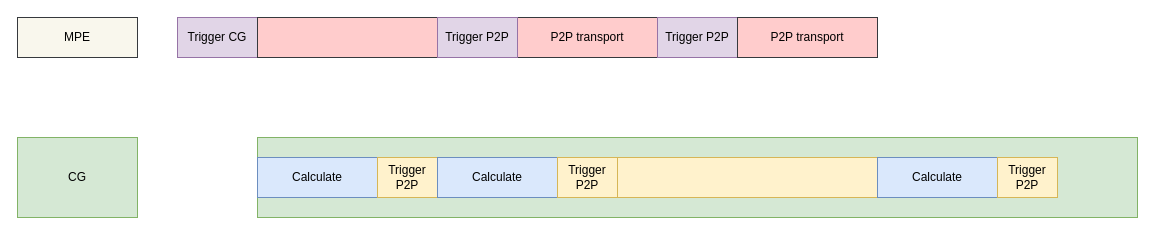
Image size: 1155x235. Some labels were removed from this diagram. Here are the shapes that lost their labels. From the top down, the centre of each, then its label:
(347,37): Pending P2P Flag
(747,177): Pending Flag
